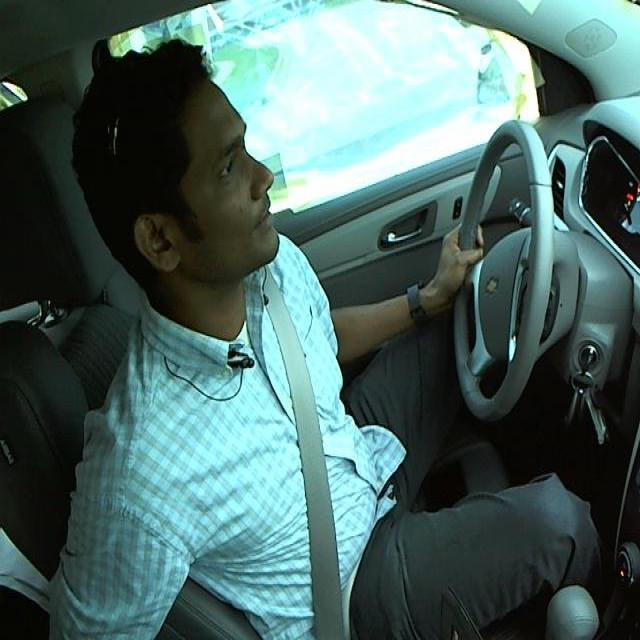seatbelt: (266, 285, 340, 639)
